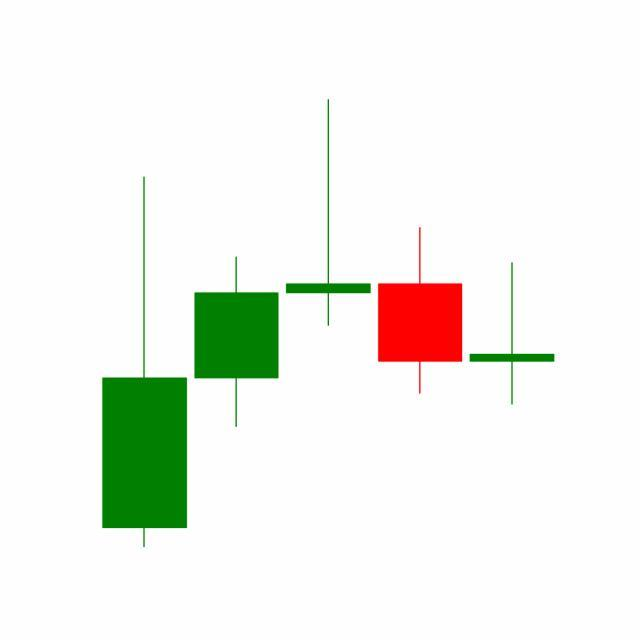Spinning Top: (466, 261, 559, 408)
